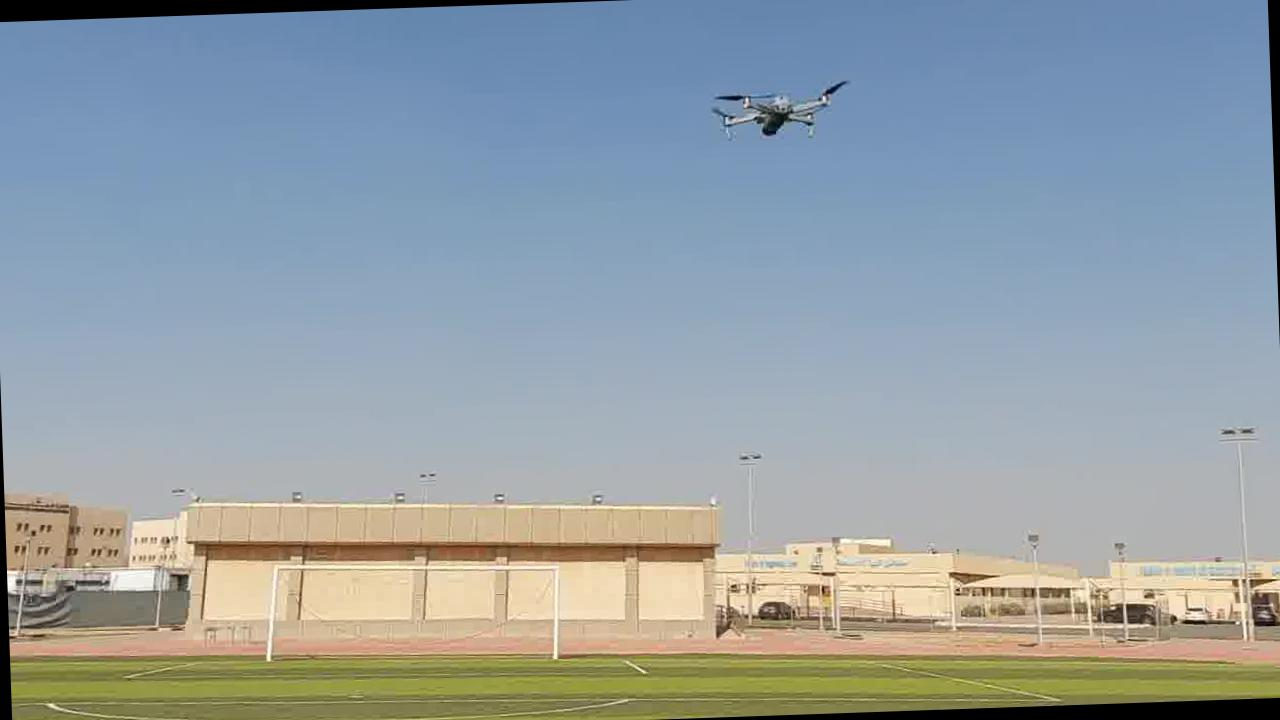drone: (708, 78, 854, 144)
